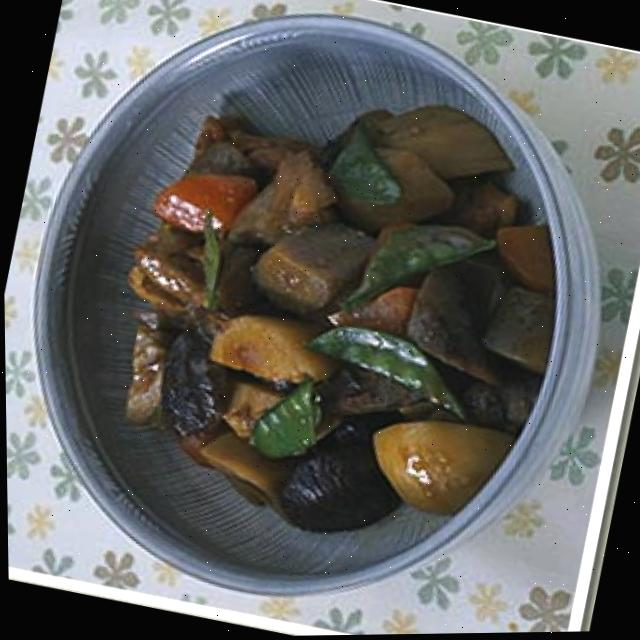鸡肉料理 含炸鸡: (57, 40, 601, 566)
